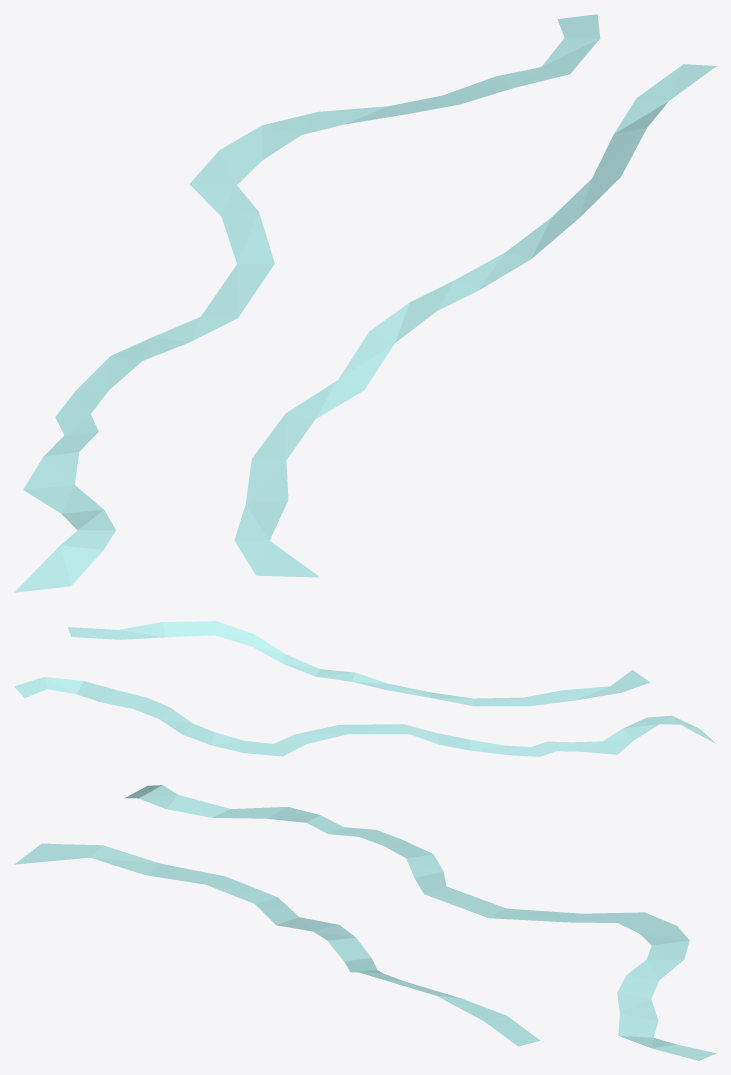
Rendered from watershore01.fbx.
3 views of the same model, one above another, from view 1: azimuth 30°, elevation 25°; view 2: azimuth 150°, elevation 25°; view 3: azimuth 270°, elevation 25° (orthographic). The views are drawn at different scales.
Visible parts, largest first — view 1: obj0.173; view 2: obj0.173; view 3: obj0.173.
Part boxes in pixels (x1,y1,x2,y2): obj0.173: [14, 14, 716, 592]; obj0.173: [14, 621, 715, 756]; obj0.173: [14, 785, 716, 1060].
Size of the model in its own units: 43.76 by 6.52 by 34.16.
